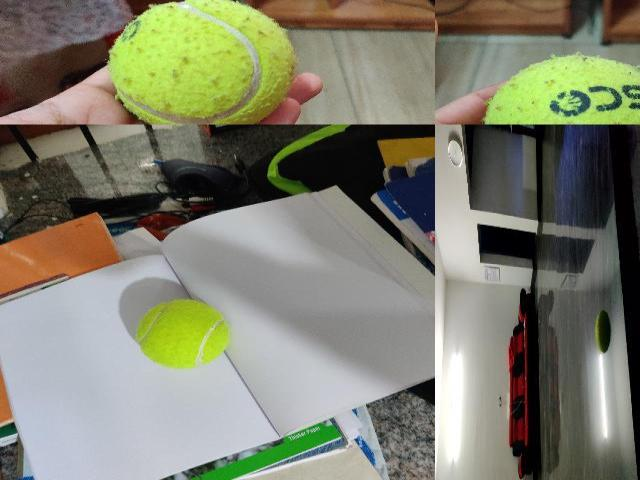tennis-ball: (107, 0, 297, 124), (482, 52, 639, 123), (135, 299, 229, 369), (595, 309, 611, 353)
